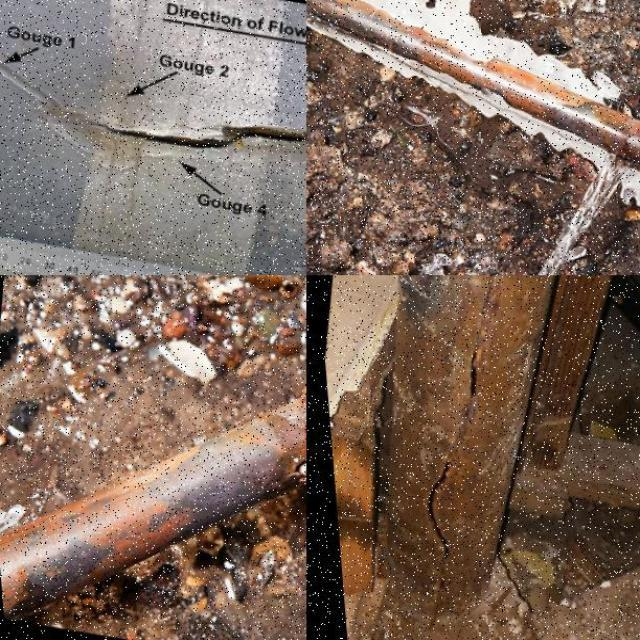crack: (409, 274, 499, 593), (79, 114, 305, 149)
rupture: (276, 439, 305, 479), (603, 141, 639, 169)
